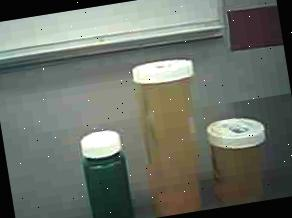Bottle A: (119, 49, 214, 218)
Bottle B: (205, 112, 276, 208)
Bottle C: (73, 125, 137, 218)
